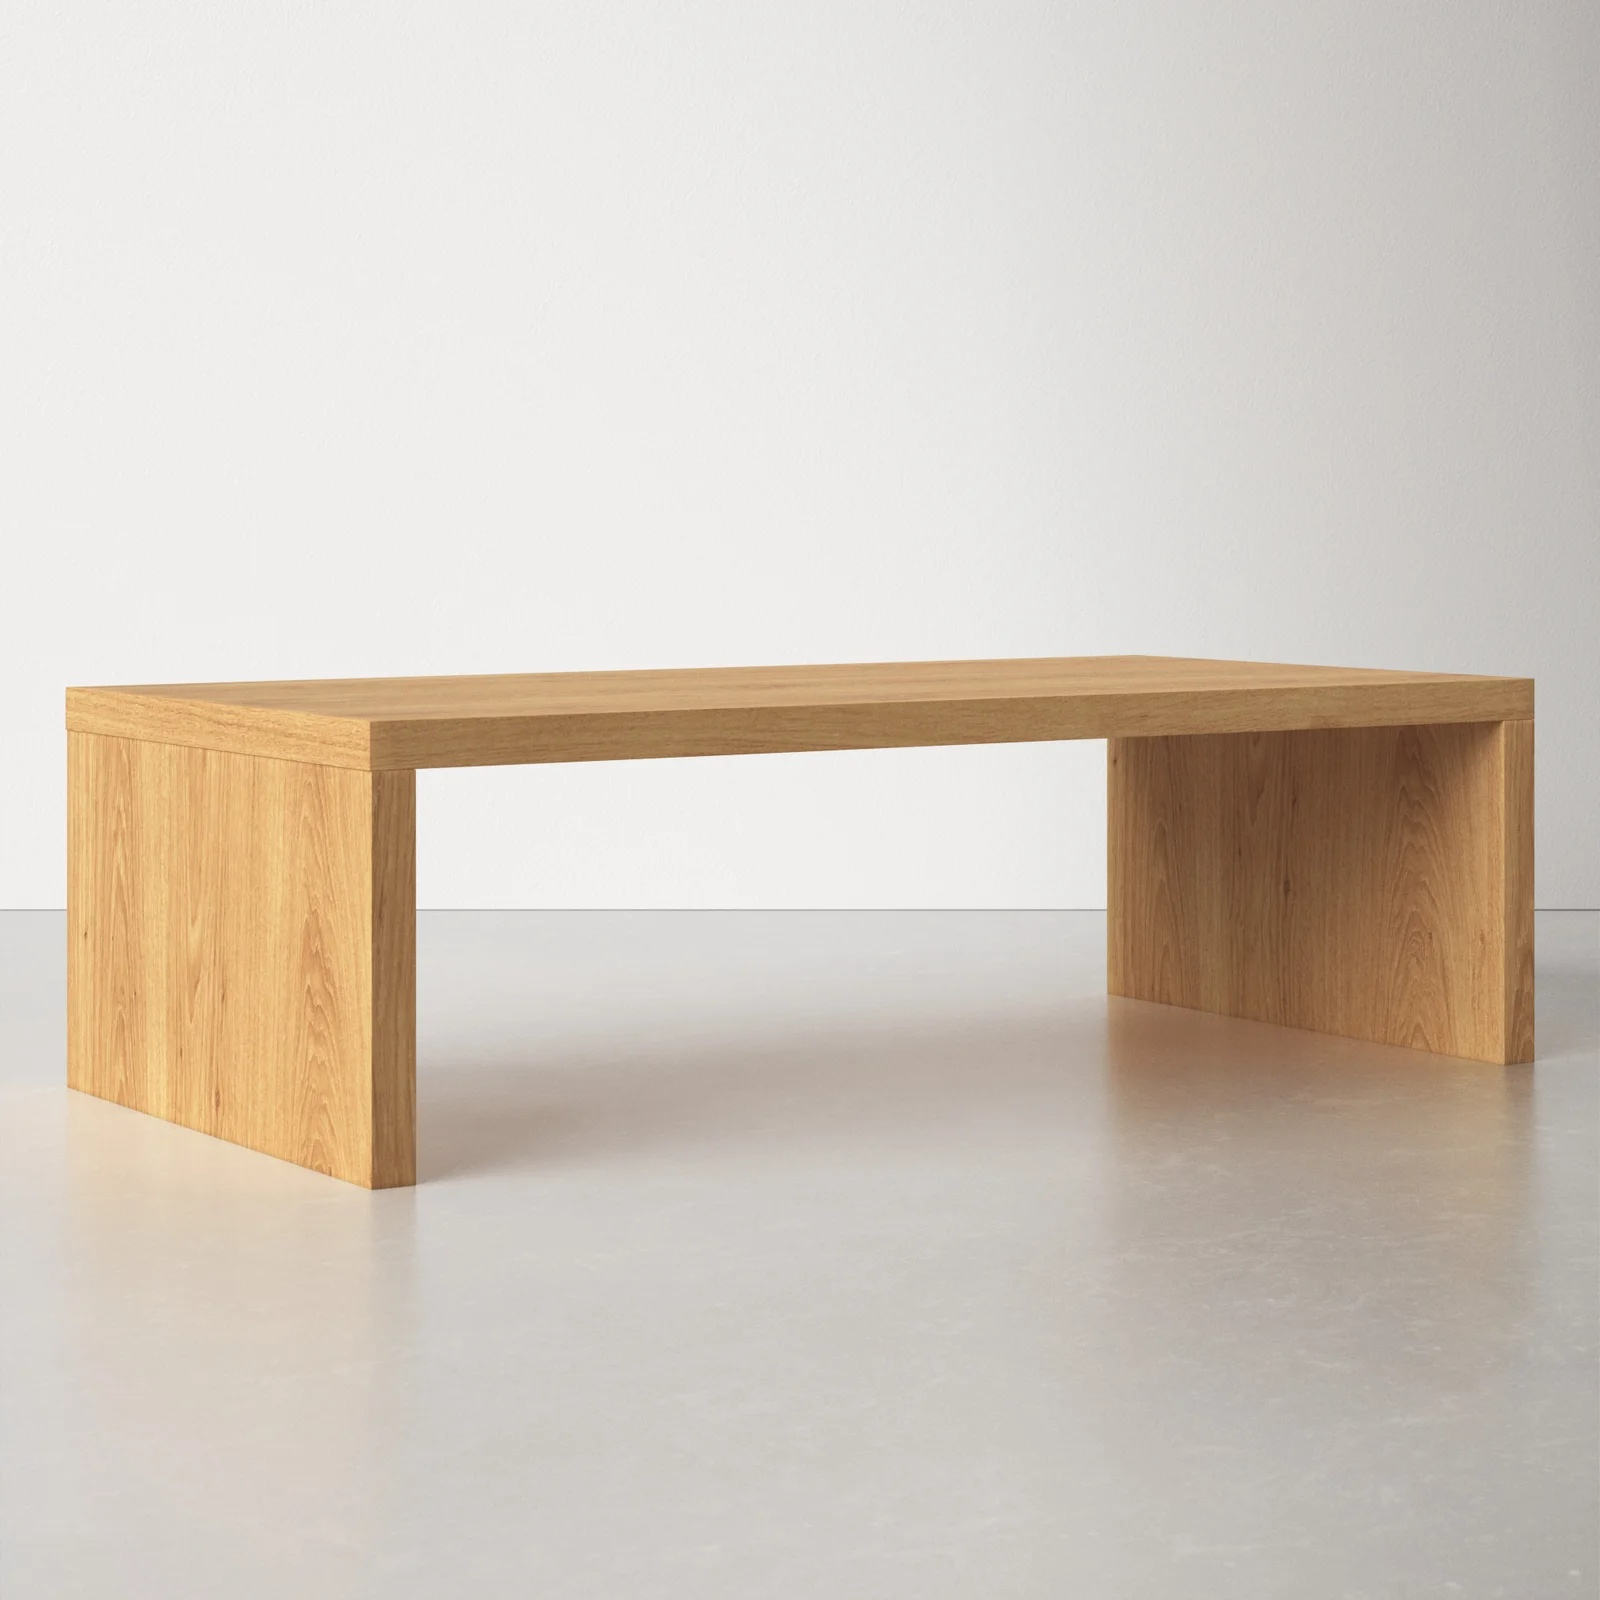obstacle: (67, 656, 1533, 1187)
